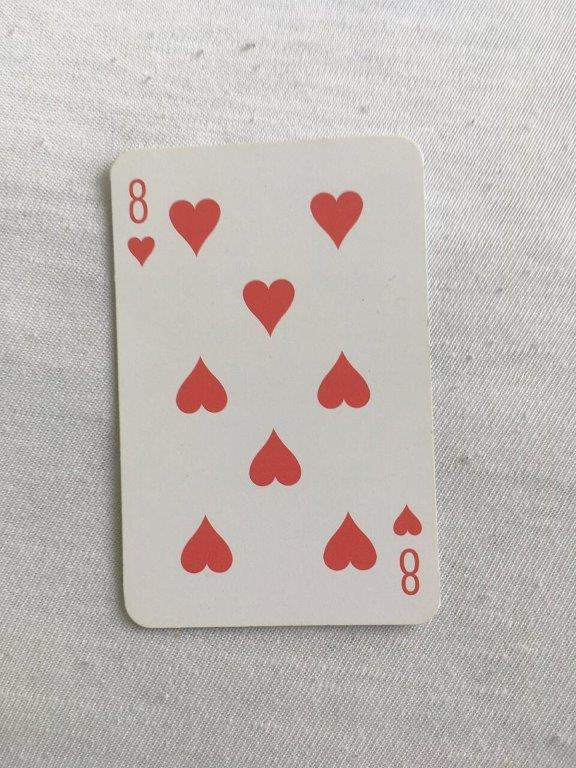8H: (106, 133, 444, 632)
